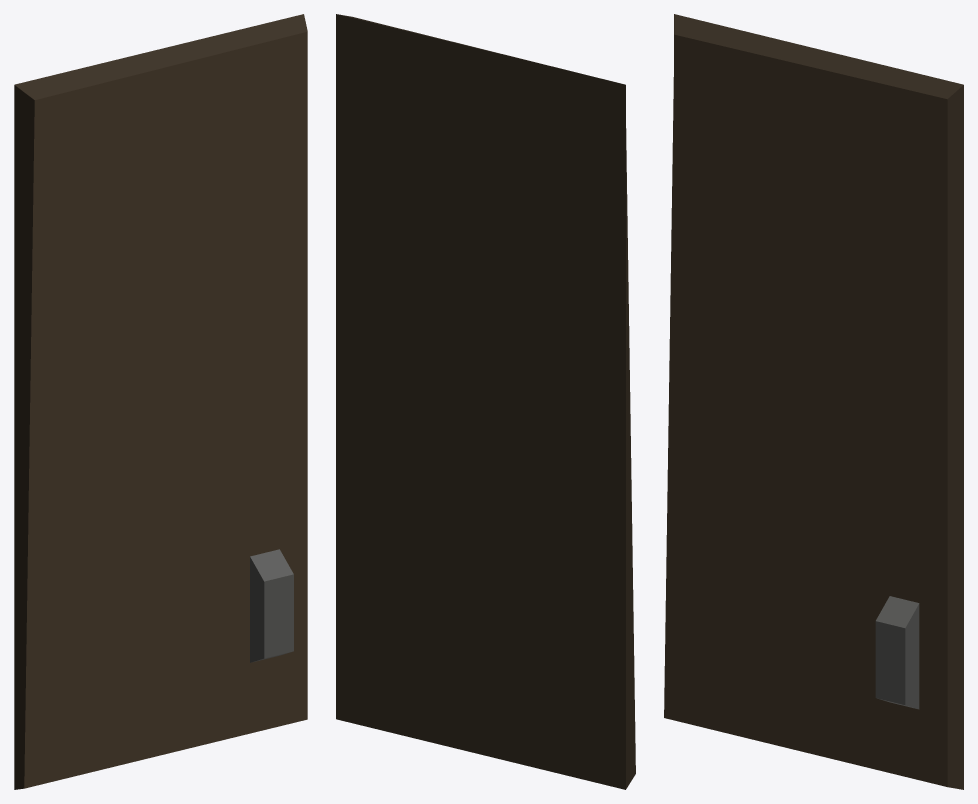
Rendered from SM_Prop_Wardrobe_01_Door_02.fbx.
3 views of the same model, side by side, from view 1: azimuth 30°, elevation 25°; view 2: azimuth 150°, elevation 25°; view 3: azimuth 330°, elevation 25° (orthographic).
Parts seen in each view (by area): view 1: SM_Prop_Wardrobe_01_Door_02; view 2: SM_Prop_Wardrobe_01_Door_02; view 3: SM_Prop_Wardrobe_01_Door_02.
Part boxes in pixels (left/top/right/bottom): SM_Prop_Wardrobe_01_Door_02: left=14, top=14, right=307, bottom=789; SM_Prop_Wardrobe_01_Door_02: left=336, top=14, right=635, bottom=789; SM_Prop_Wardrobe_01_Door_02: left=664, top=14, right=963, bottom=789.
Bounding box in the file's own units: 53.7 × 125 × 7.8.
